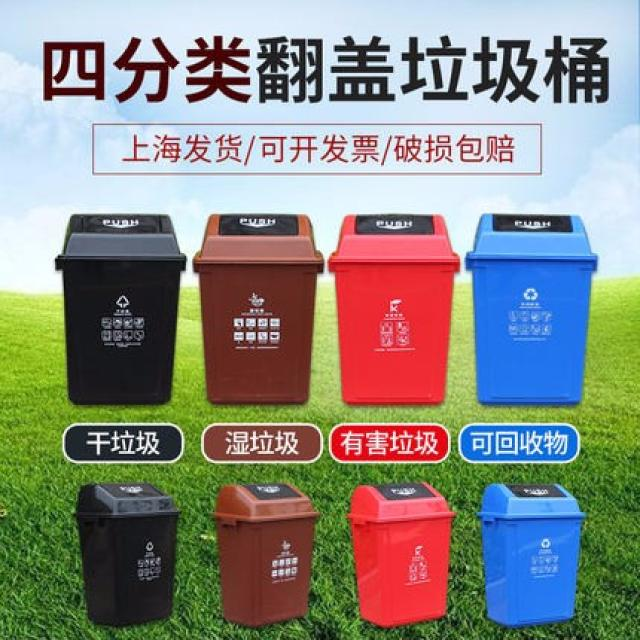garbage_bin: (463, 211, 597, 405), (190, 211, 323, 405), (54, 213, 186, 405), (326, 213, 458, 405), (476, 482, 586, 625), (208, 481, 317, 625), (345, 481, 454, 625), (73, 481, 177, 625)
